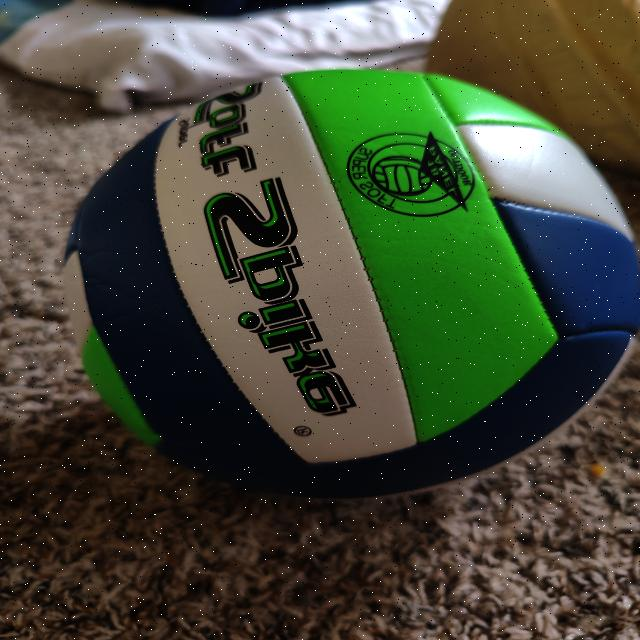ball: (64, 64, 637, 500)
